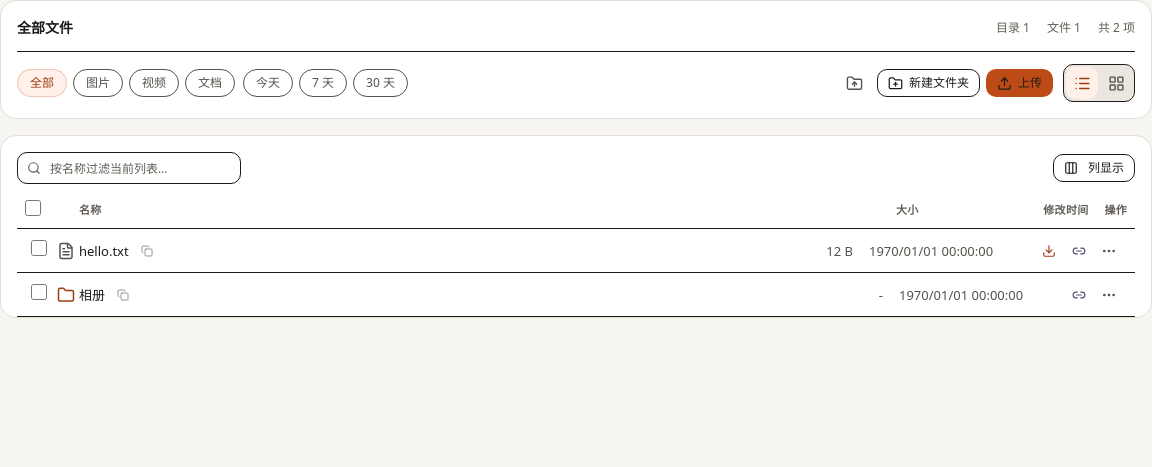
view toggle switches grid container classes and persists preference
Expected: the button "hello.txt" is shown, [79, 240, 129, 260]
Expected: the element with test id "file-list-container" is shown, [17, 152, 1135, 317]
Click the button named "网格视图" at (1116, 83), box [1100, 67, 1132, 99]
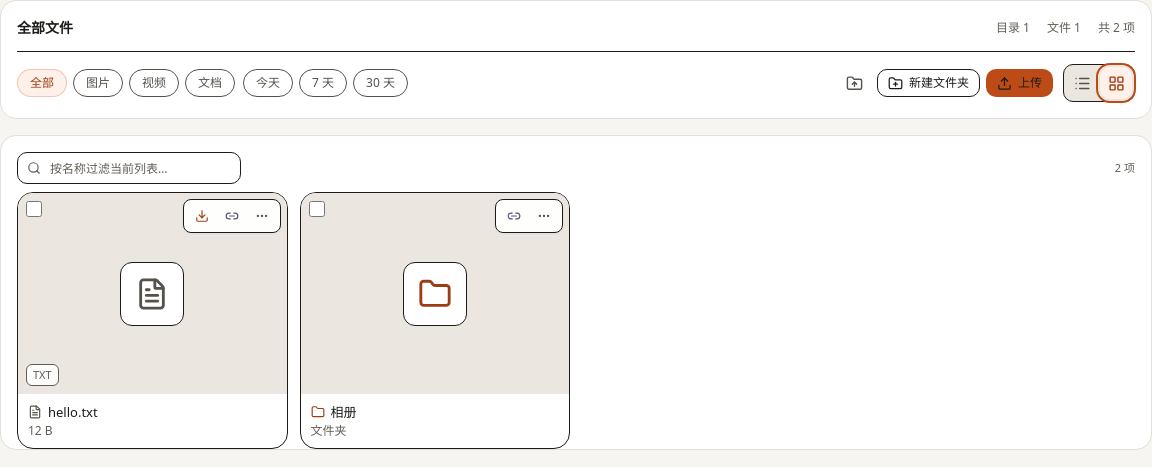
Expected: the element with test id "file-grid" is shown, [17, 192, 570, 449]
# 切回列表并持久化偏好
Click the button named "列表视图" at (1082, 83), box [1066, 67, 1098, 99]
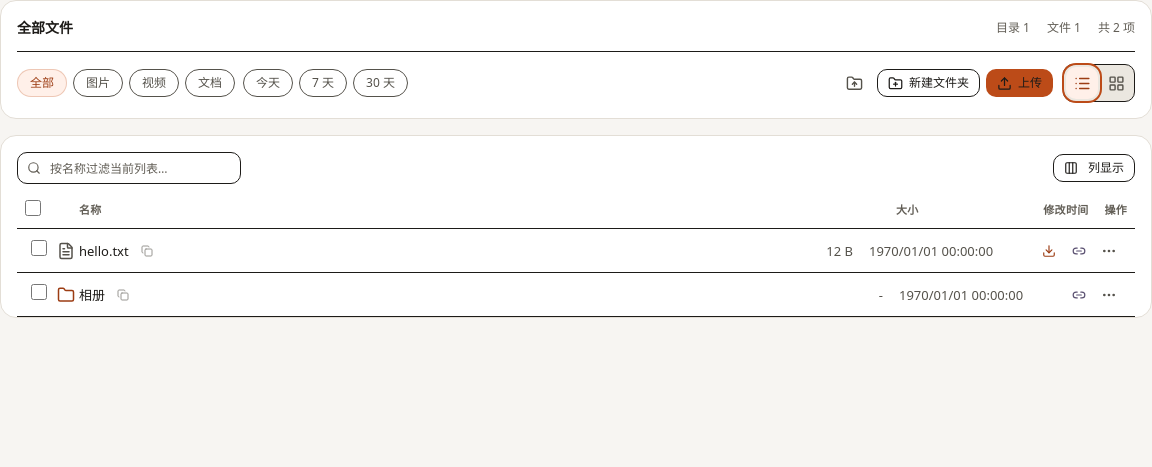
Expected: the element with test id "file-list-container" is shown, [17, 152, 1135, 317]
Expected: the element with test id "file-grid" is gone
